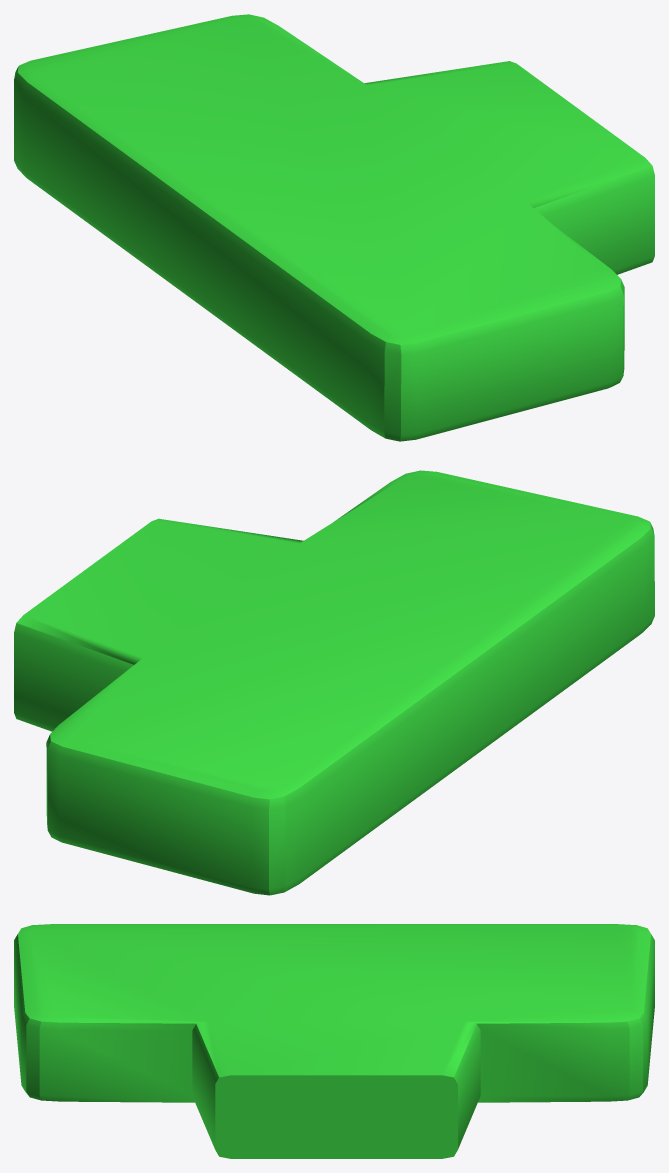
Rendered from escalón.FBX.
3 views of the same model, one above another, from view 1: azimuth 30°, elevation 25°; view 2: azimuth 150°, elevation 25°; view 3: azimuth 270°, elevation 25° (orthographic). The views are drawn at different scales.
Visible parts, largest first — view 1: escalon1; view 2: escalon1; view 3: escalon1.
Boxes of the visible parts, <box> form: escalon1: <box>14,14,654,441</box>; escalon1: <box>14,470,654,895</box>; escalon1: <box>14,924,654,1158</box>.
Bounding box in the file's own units: 35.36 × 8.92 × 61.98.
